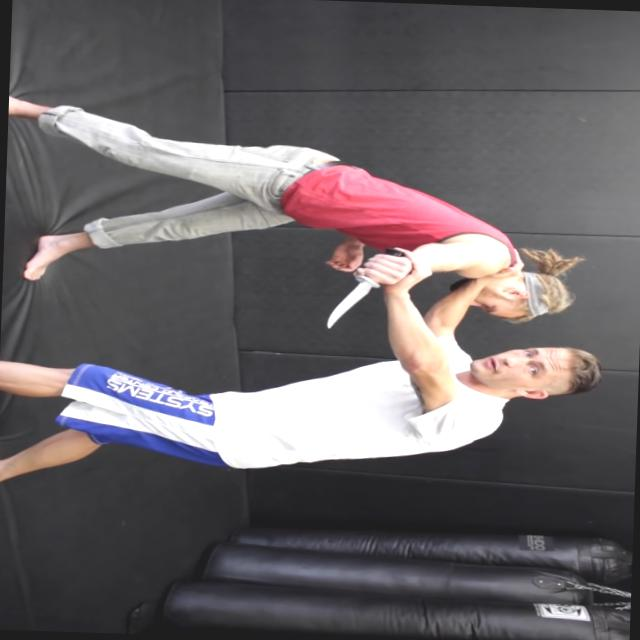knife: (310, 244, 410, 334)
